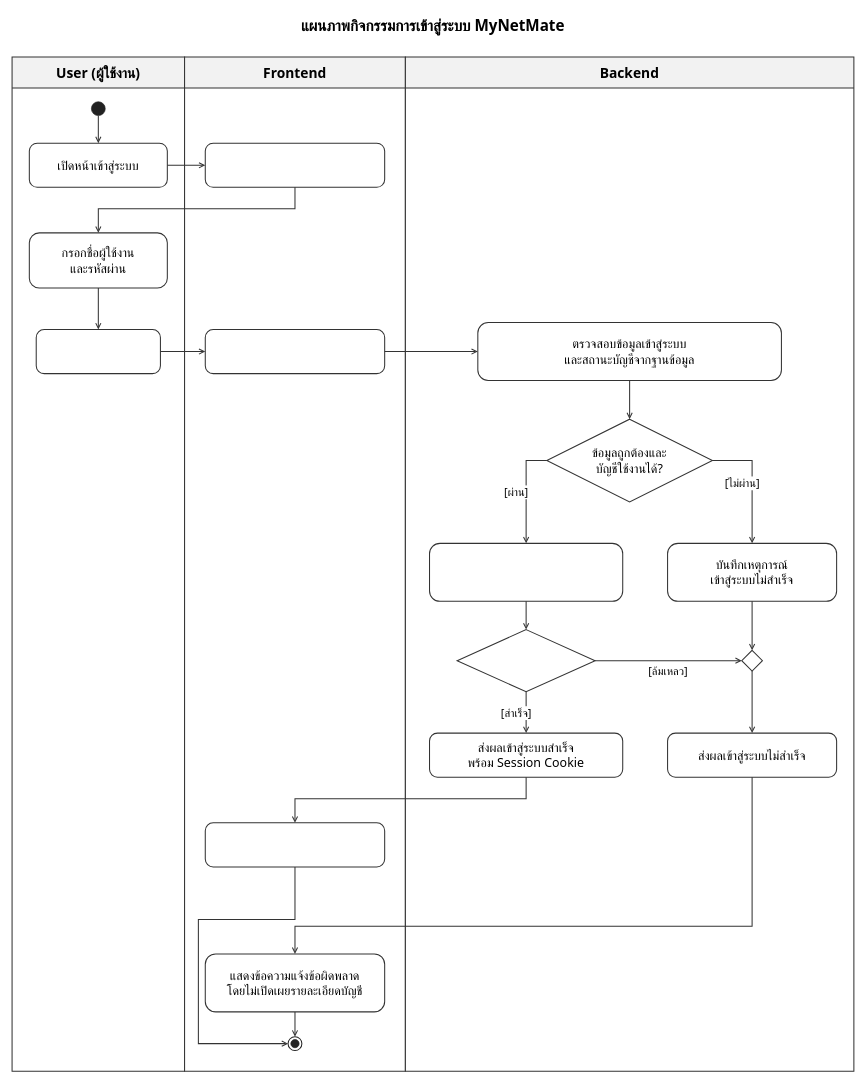
This 867x1083 diagram has some shape labels left out. The shapes that lost their labels are listed below. From the top down, each one's centre as x and y in pixels, then its label:
At pixel 294 165: "แสดงหน้าเข้าสู่ระบบ".
At pixel 98 351: "กดเข้าสู่ระบบ".
At pixel 294 351: "ส่งข้อมูลเข้าสู่ระบบ ไปยัง Backend".
At pixel 526 572: "สร้าง Session และบันทึก เหตุการณ์เข้าสู่ระบบสำเร็จ".
At pixel 525 660: "บันทึกสำเร็จ?".
At pixel 294 844: "แสดงหน้าหลักตามสิทธิ์".
